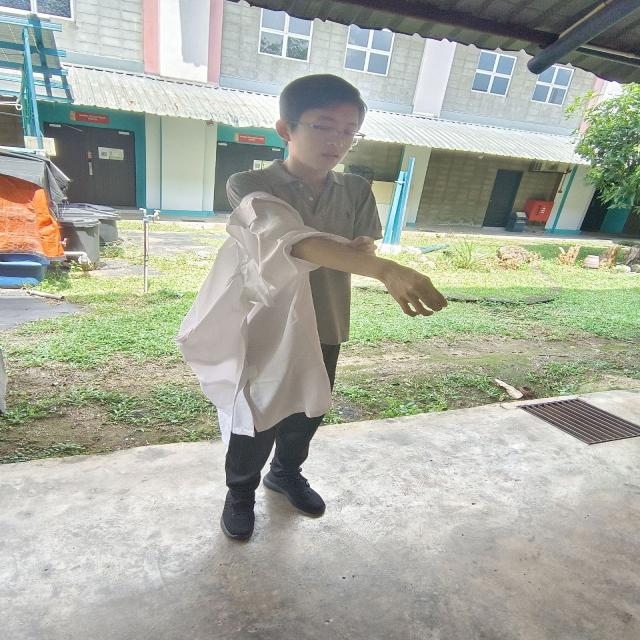person_without_labcoat: (177, 74, 445, 539)
